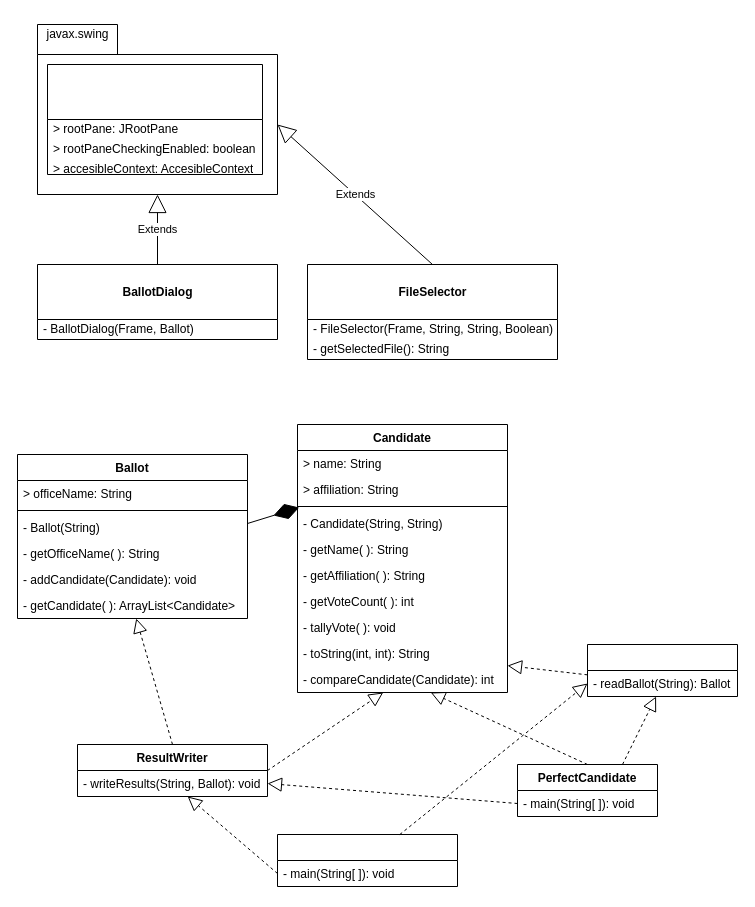
The diagram is 755 pixels wide and 907 high, and some of its shapes have lost their labels. Each missing label, with the box of its shape:
BallotReader: (586, 644, 738, 696)
JDialog: (46, 64, 262, 174)
VotingMachineTester: (276, 834, 458, 886)
